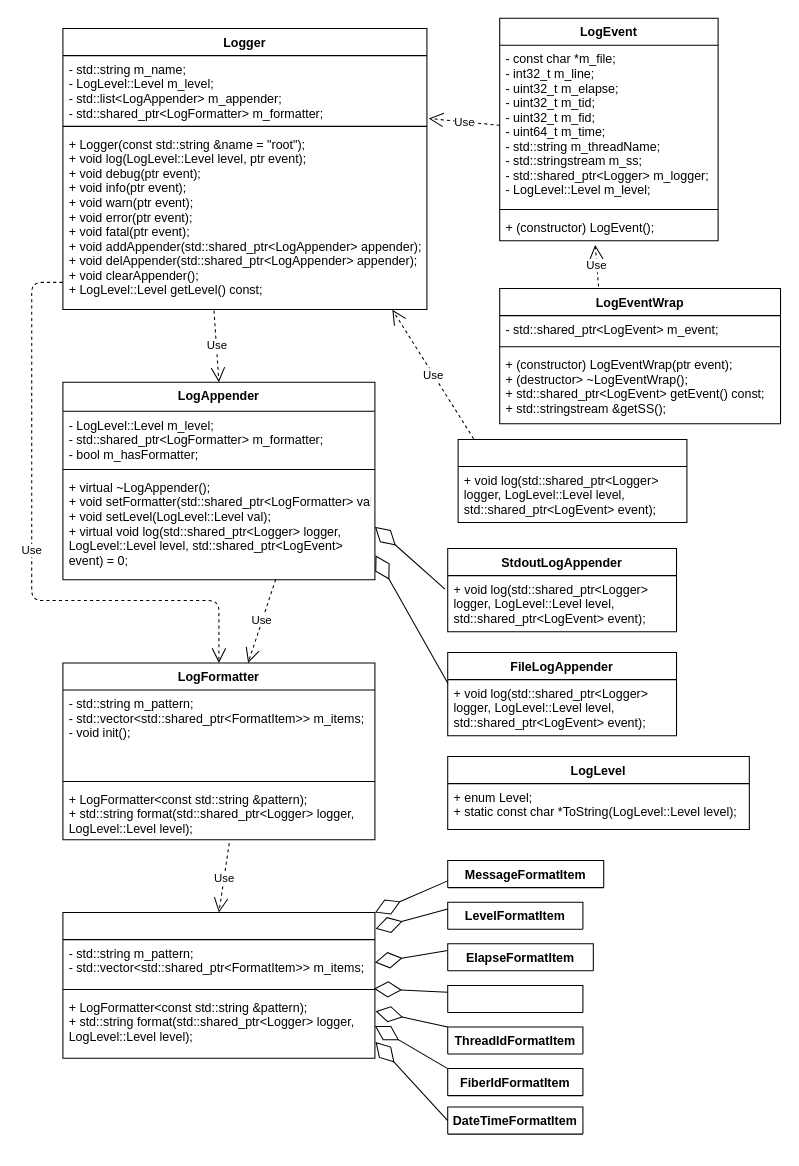
Image size: 799x1166. Some labels were removed from this diagram. The box of each missing label's shape, as (x1, y1, x2, y2) in pixels:
FormatItem: (62, 912, 375, 1058)
LoggerManager: (457, 438, 687, 523)
NameFormatItem: (447, 984, 583, 1012)
